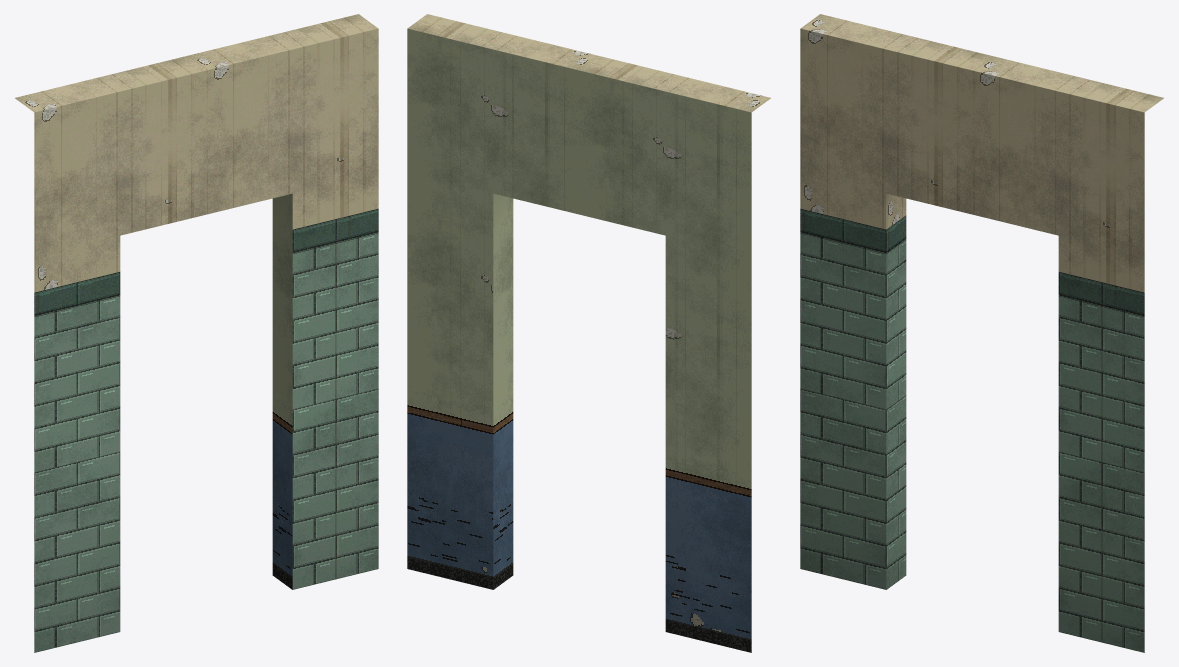
Rendered from wall_doorway_class.glb.
The picture shows the model from 3 angles, left to right: view 1: azimuth 30°, elevation 25°; view 2: azimuth 150°, elevation 25°; view 3: azimuth 330°, elevation 25°; orthographic projection.
Visible parts, largest first — view 1: wall_doorway_class; view 2: wall_doorway_class; view 3: wall_doorway_class.
Part boxes in pixels (x1=…): wall_doorway_class: x1=15, y1=14, x2=378, y2=652; wall_doorway_class: x1=407, y1=14, x2=770, y2=652; wall_doorway_class: x1=800, y1=14, x2=1163, y2=652.
Bounding box in the file's own units: 2 × 3 × 0.2.
